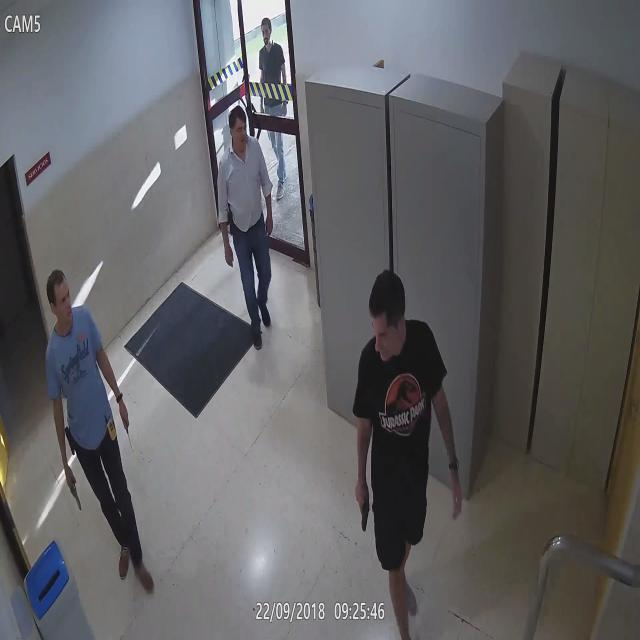Gun: (61, 459, 82, 514), (354, 481, 371, 532), (227, 203, 236, 243)
